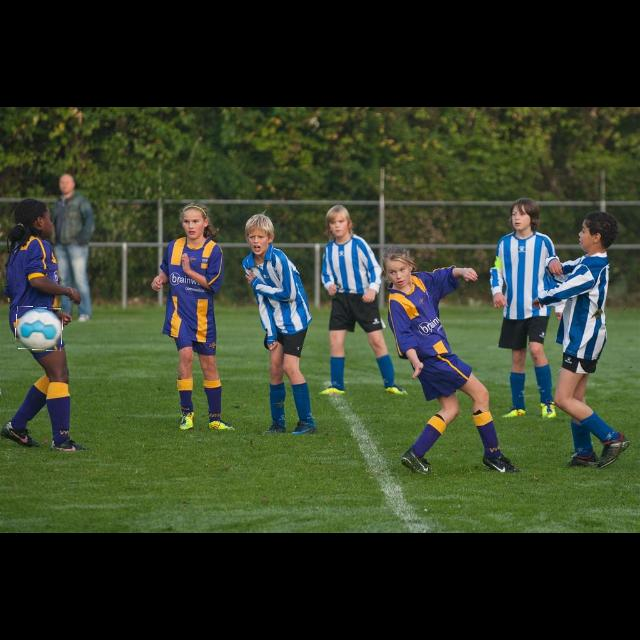Football: (16, 307, 62, 351)
